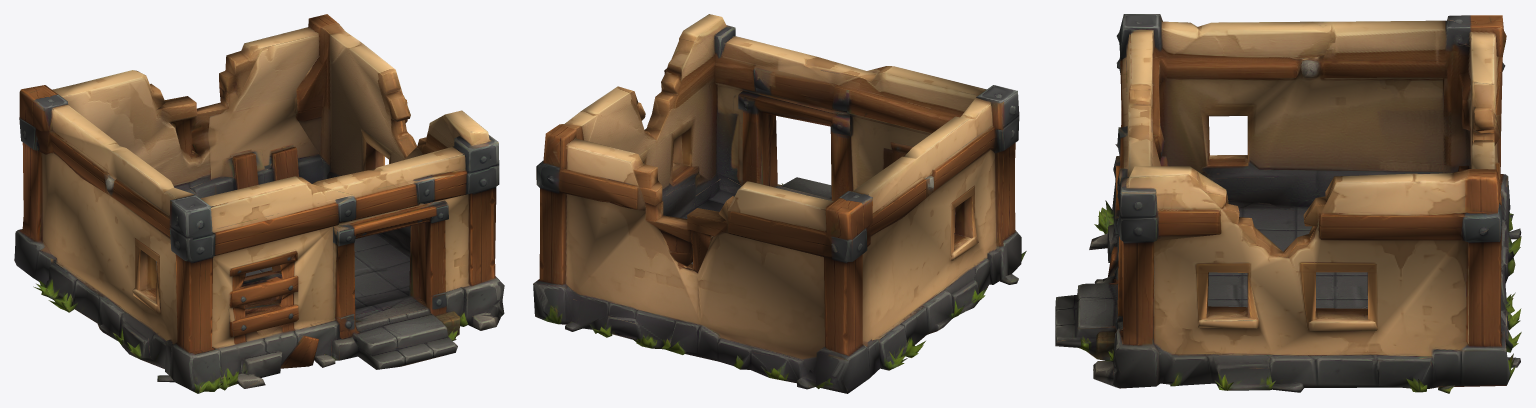
The model's file is House1.fbx.
3 views of the same model, side by side, from view 1: azimuth 30°, elevation 25°; view 2: azimuth 150°, elevation 25°; view 3: azimuth 270°, elevation 25° (orthographic). The views are drawn at different scales.
Parts seen in each view (by area): view 1: Mesh_0; view 2: Mesh_0; view 3: Mesh_0.
Boxes of the visible parts, left/top/right/bottom form: Mesh_0: left=14, top=14, right=504, bottom=393; Mesh_0: left=533, top=14, right=1026, bottom=393; Mesh_0: left=1055, top=14, right=1521, bottom=393.
Bounding box in the file's own units: 186 × 94.13 × 191.
1 material, 1 textured.
